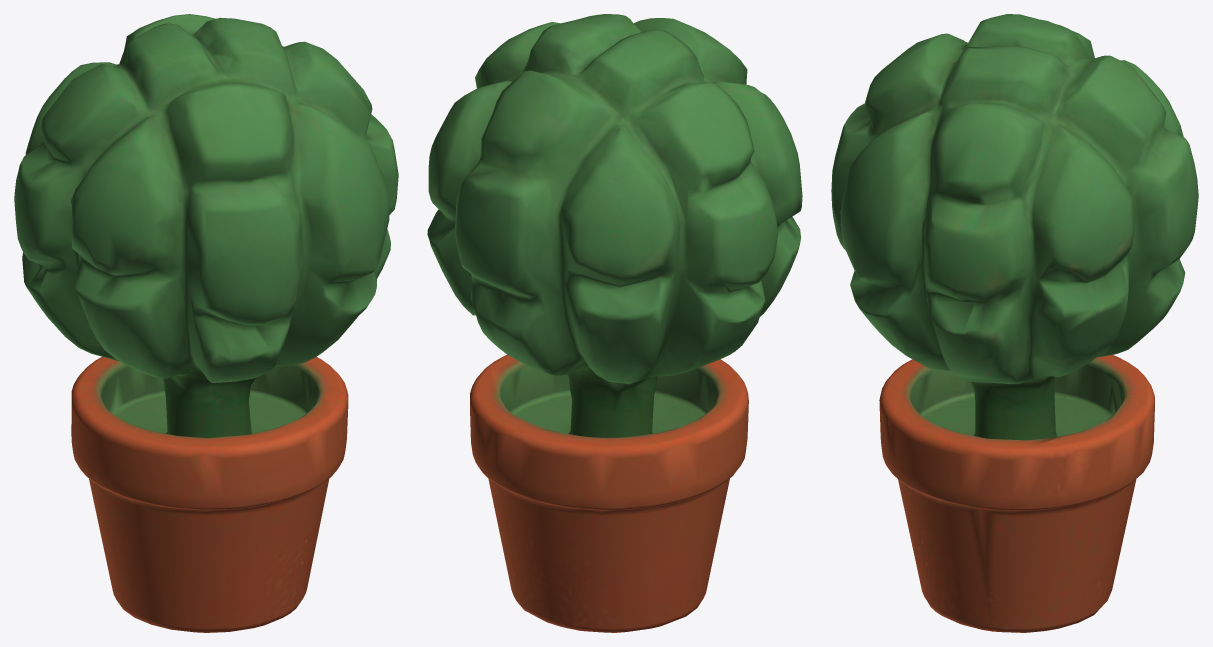
Rendered from plant.glb.
3 views of the same model, side by side, from view 1: azimuth 30°, elevation 25°; view 2: azimuth 150°, elevation 25°; view 3: azimuth 270°, elevation 25° (orthographic).
Parts seen in each view (by area): view 1: tripo_node_b56bae5b-8412-4d3a-93c0-32ce72b2b5ad; view 2: tripo_node_b56bae5b-8412-4d3a-93c0-32ce72b2b5ad; view 3: tripo_node_b56bae5b-8412-4d3a-93c0-32ce72b2b5ad.
Boxes of the visible parts, x1,y1,x2,y2 form: tripo_node_b56bae5b-8412-4d3a-93c0-32ce72b2b5ad: (14,14,398,632); tripo_node_b56bae5b-8412-4d3a-93c0-32ce72b2b5ad: (427,14,802,632); tripo_node_b56bae5b-8412-4d3a-93c0-32ce72b2b5ad: (831,14,1198,632).
Size of the model in its own units: 0.6162 by 0.9995 by 0.5972.
Materials: 1 (1 with a texture image).
